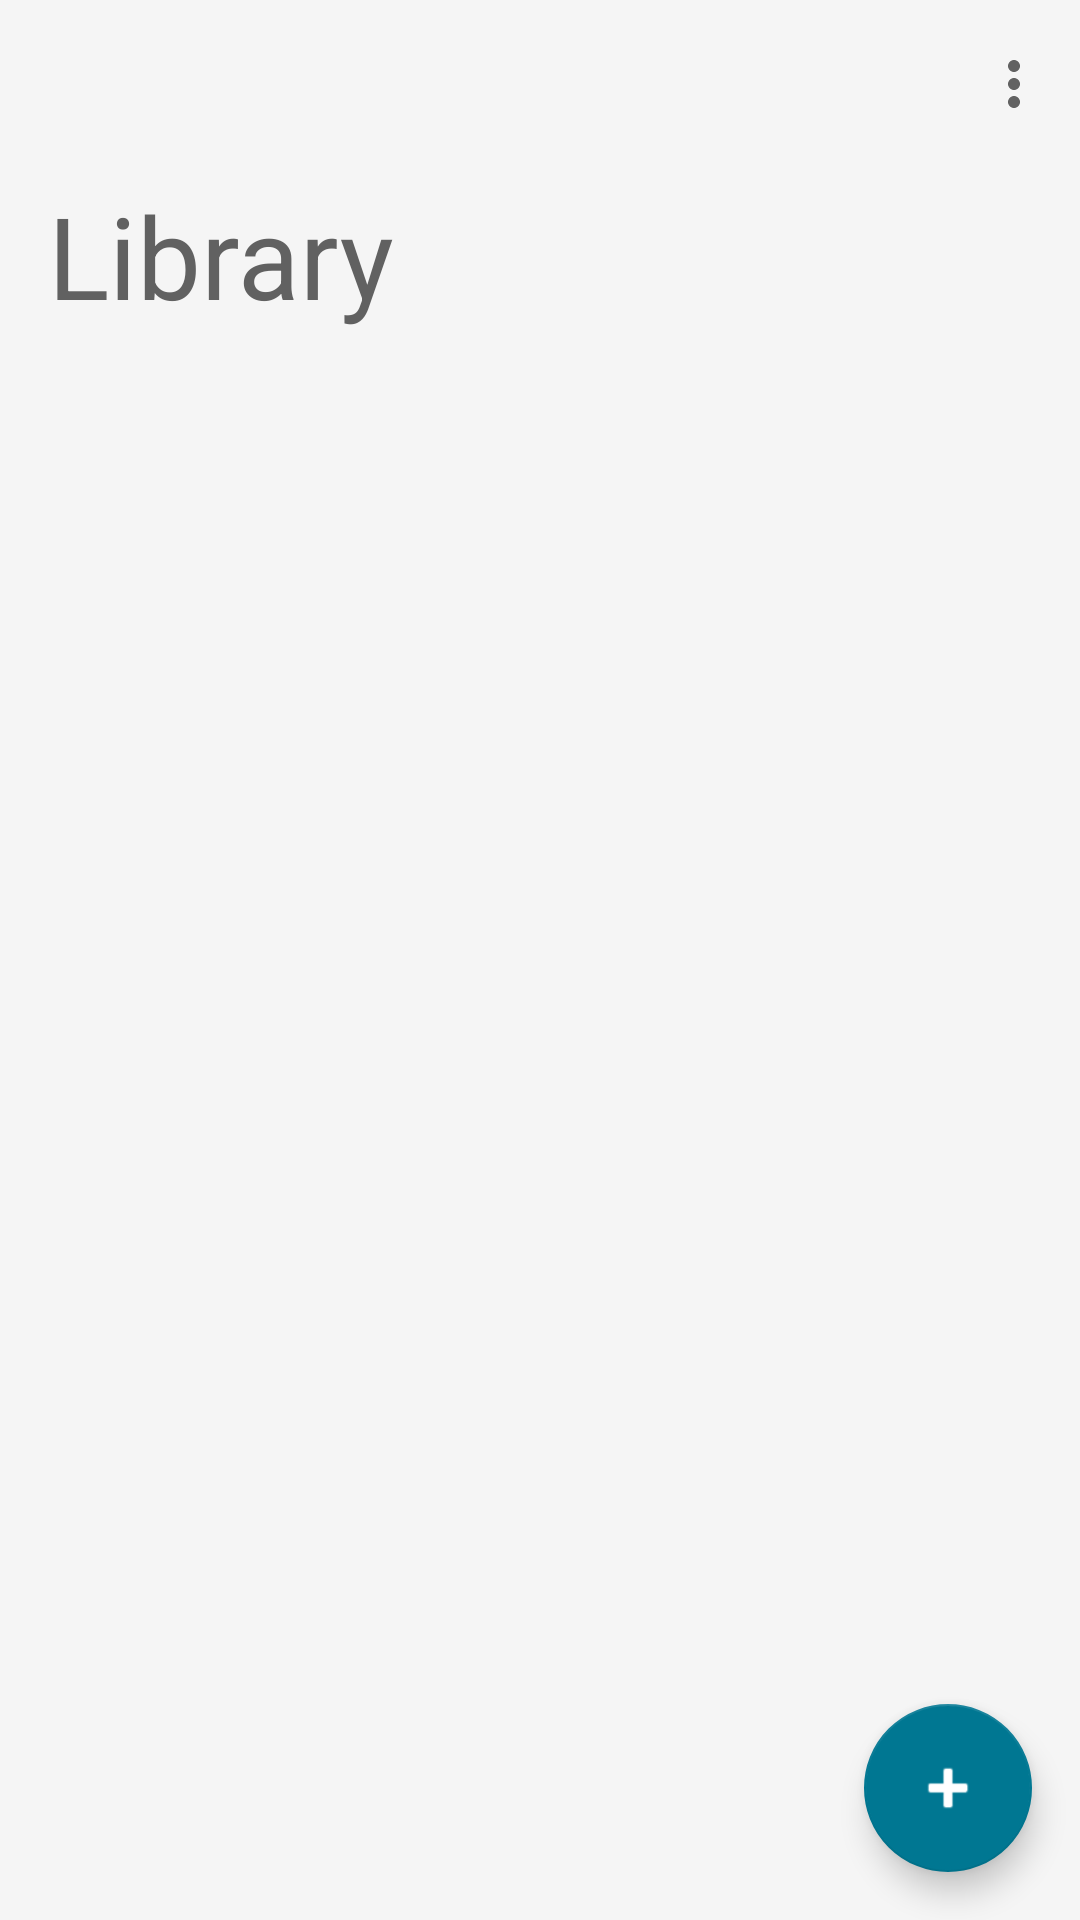

Locate icon controls on the screen. Image size 1080 × 1920, boxes as rect(x1, y1, x2, y2).
Create a new Item: rect(864, 1704, 1032, 1872)
